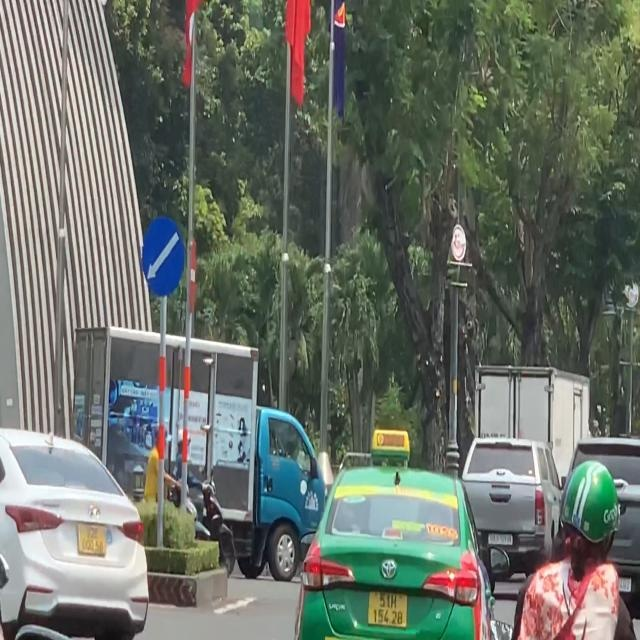bien_hieu_lenh: (139, 216, 185, 300)
